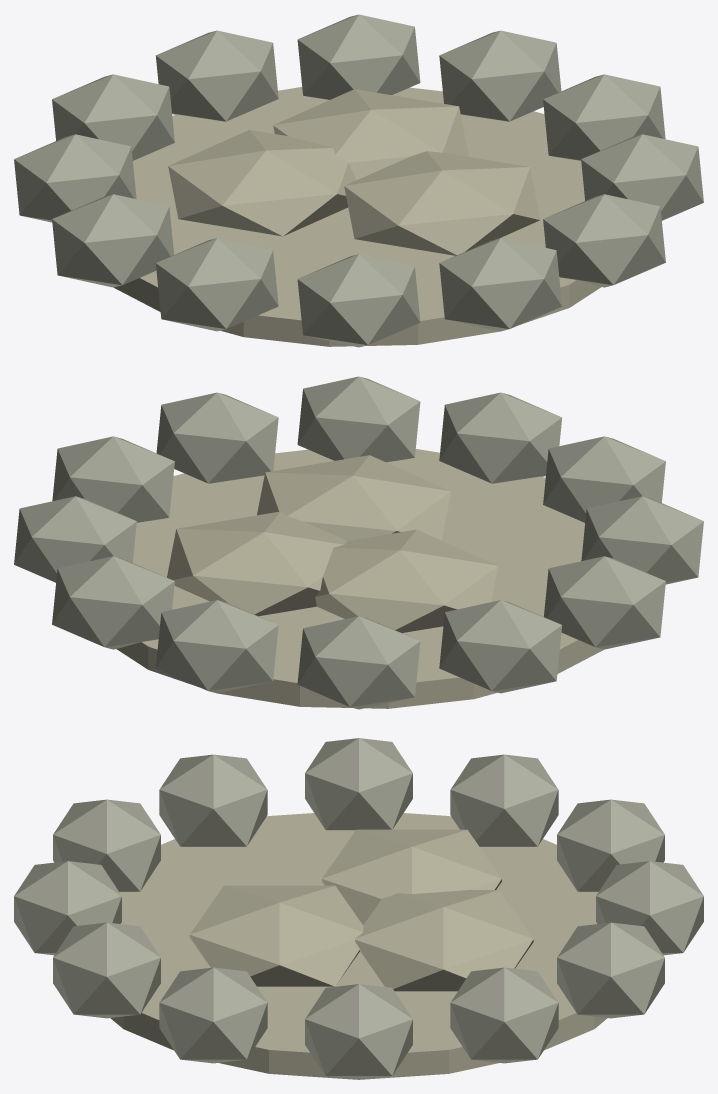
3 renders of one model, top to bottom at view 1: azimuth 30°, elevation 25°; view 2: azimuth 150°, elevation 25°; view 3: azimuth 270°, elevation 25°, orthographic. The views are drawn at different scales.
Parts seen in each view (by area): view 1: WW-028 Stone-lined cold ash bay batched; view 2: WW-028 Stone-lined cold ash bay batched; view 3: WW-028 Stone-lined cold ash bay batched.
Part boxes in pixels (box(x1,y1,x2,y2)): WW-028 Stone-lined cold ash bay batched: box(14, 14, 703, 347); WW-028 Stone-lined cold ash bay batched: box(14, 376, 703, 709); WW-028 Stone-lined cold ash bay batched: box(14, 738, 703, 1079).
Bounding box in the file's own units: 1.35 × 0.2 × 1.3.
